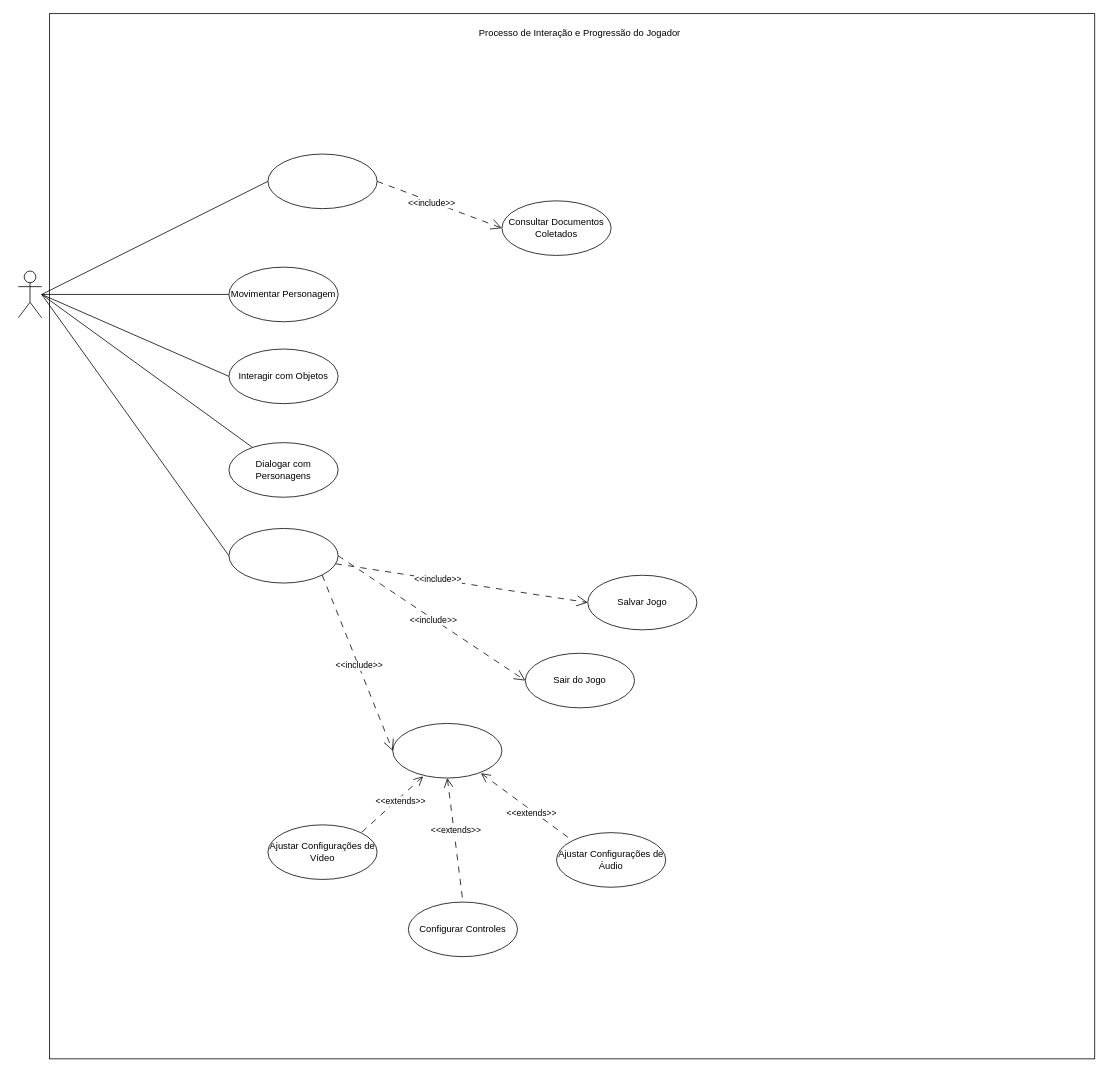
Image size: 1108x1073. Some labels were removed from this diagram. Here are the shapes that lost their labels. From the top down, the centre of each, then its label:
At [322,181]: "Acessar Diário de Memórias".
At [30,294]: "Jogador".
At [283,555]: "Pausar Jogo".
At [447,750]: "Configurar Jogo".
